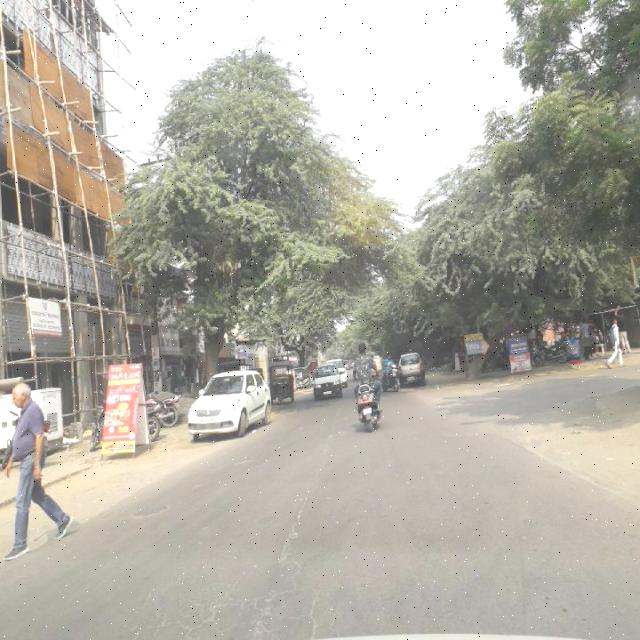D20: (151, 502, 320, 636)
D44: (256, 490, 311, 639)
